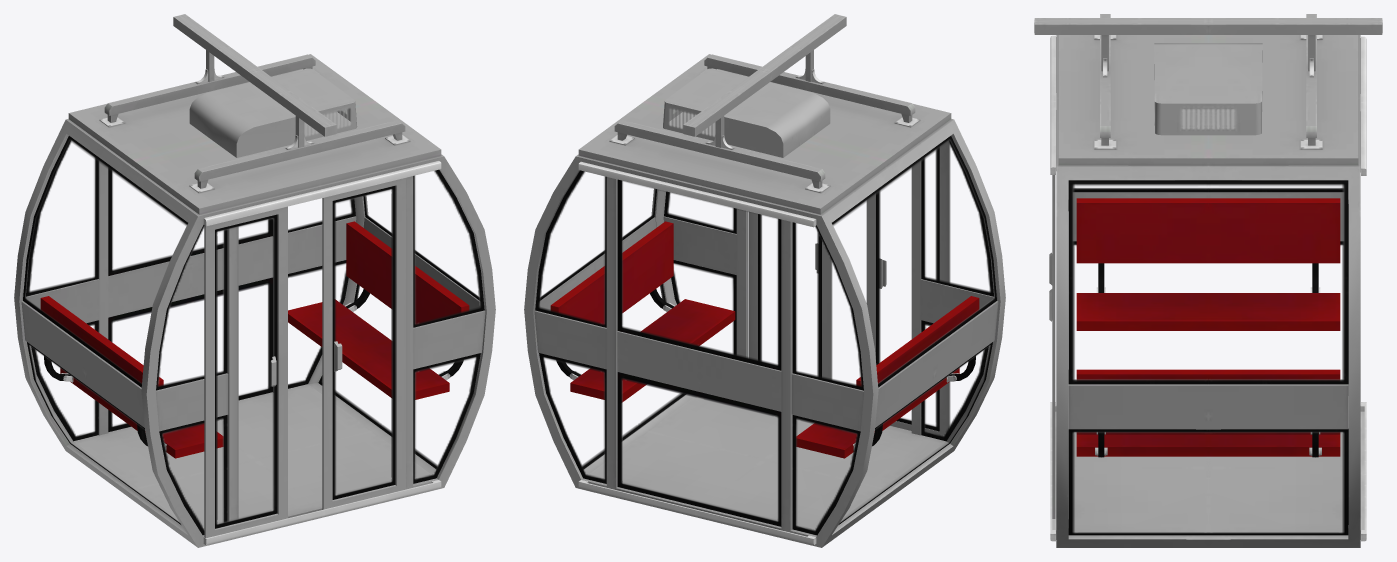
Rendered from cabin.glb.
3 renders of one model, left to right at view 1: azimuth 30°, elevation 25°; view 2: azimuth 150°, elevation 25°; view 3: azimuth 270°, elevation 25°, orthographic. The views are drawn at different scales.
Parts seen in each view (by area): view 1: Object_2; view 2: Object_2; view 3: Object_2.
Boxes of the visible parts, x1,y1,x2,y2 form: Object_2: (14,14,495,547); Object_2: (524,14,1005,547); Object_2: (1034,14,1382,547).
Bounding box in the file's own units: 1.01 × 1.1 × 0.7575.
Materials: 1 (1 with a texture image).
